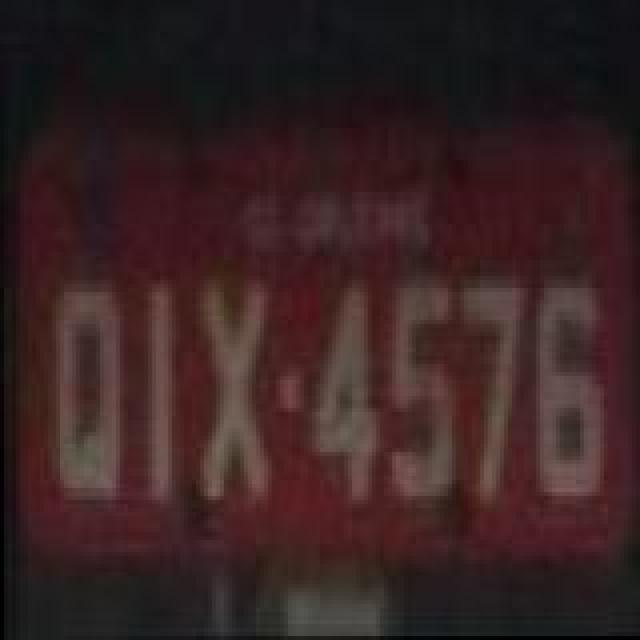1: (140, 278, 176, 506)
4: (310, 278, 382, 502)
5: (386, 280, 458, 508)
6: (532, 276, 608, 508)
7: (460, 284, 528, 512)
Q: (50, 276, 122, 508)
X: (196, 278, 272, 510)
